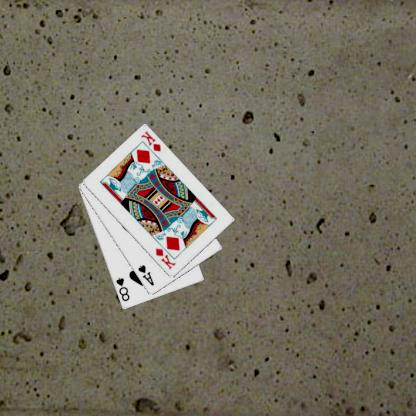8S: (115, 275, 133, 303)
AS: (137, 263, 157, 287)
KD: (154, 245, 178, 271), (140, 128, 164, 153)
